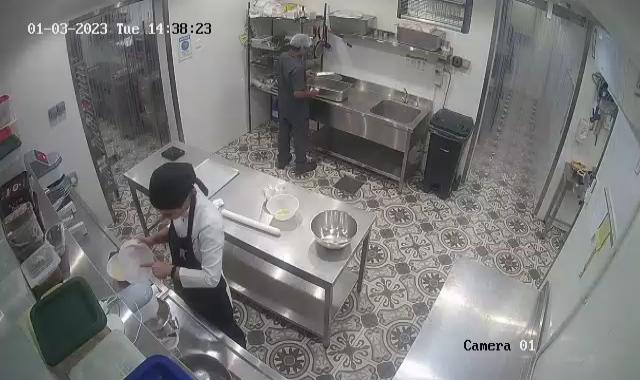hairnet: (288, 32, 313, 54)
no_hairnet: (146, 159, 196, 218)
